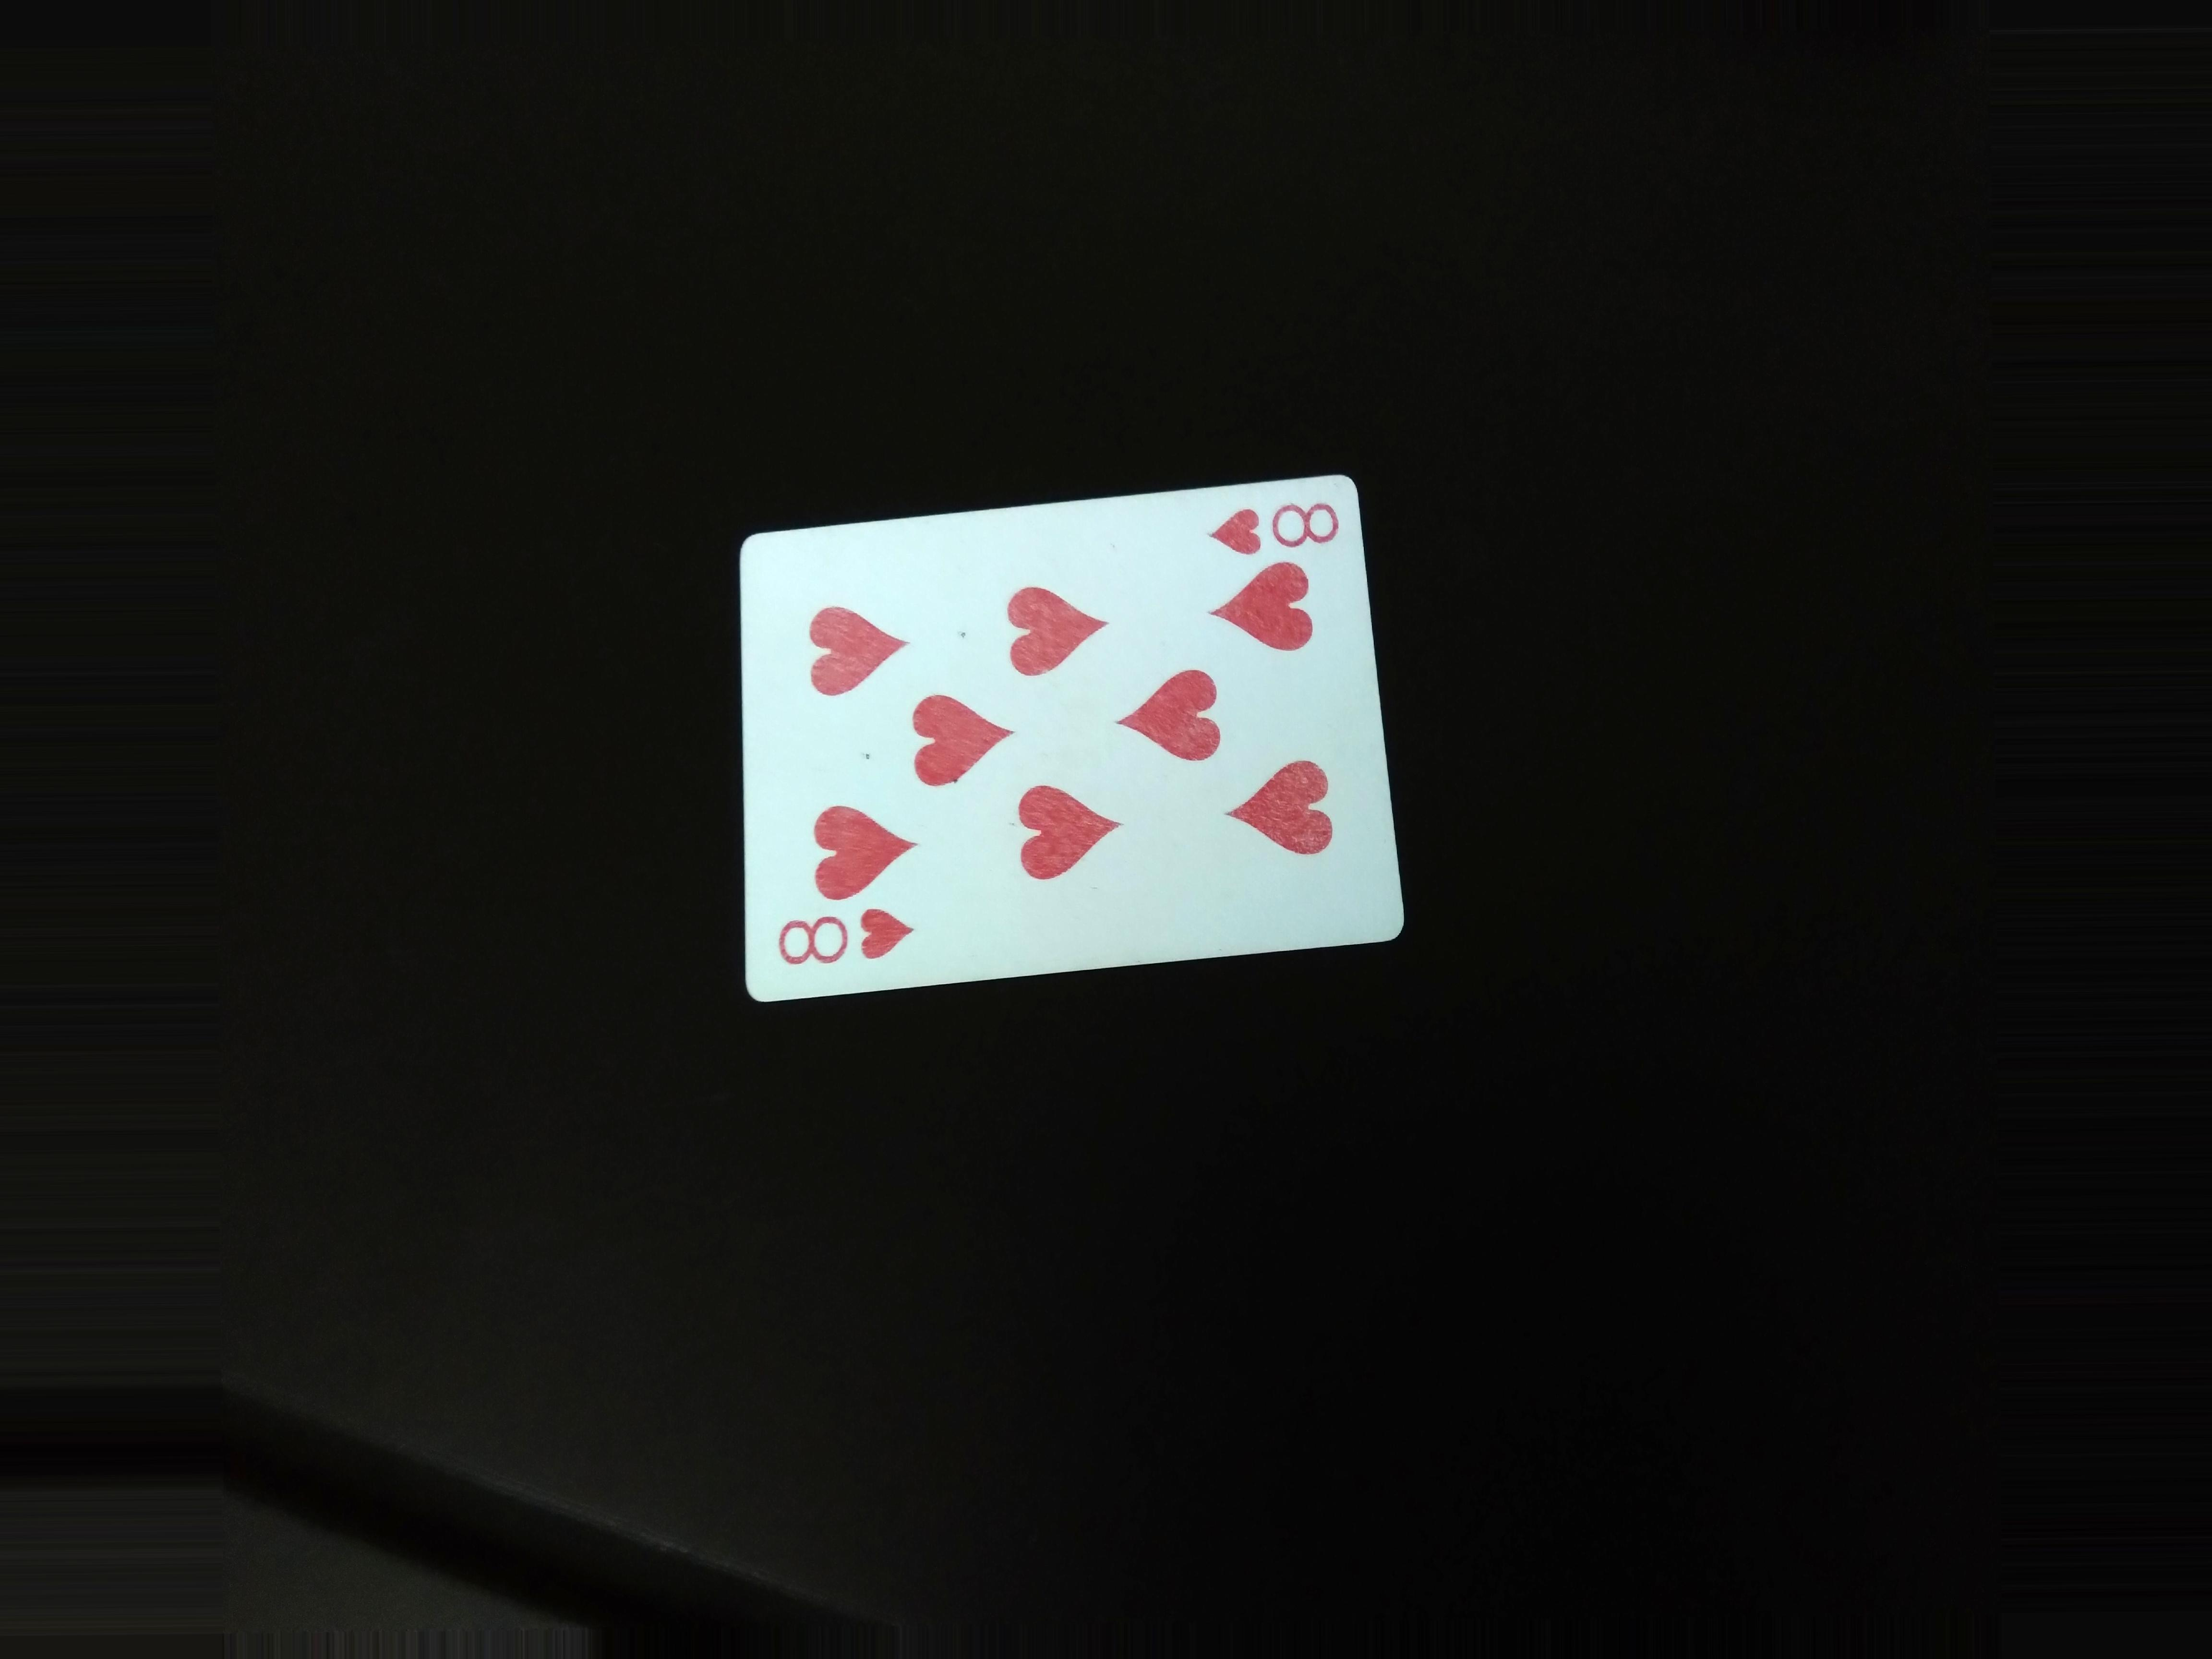8H: (756, 913, 965, 978)
